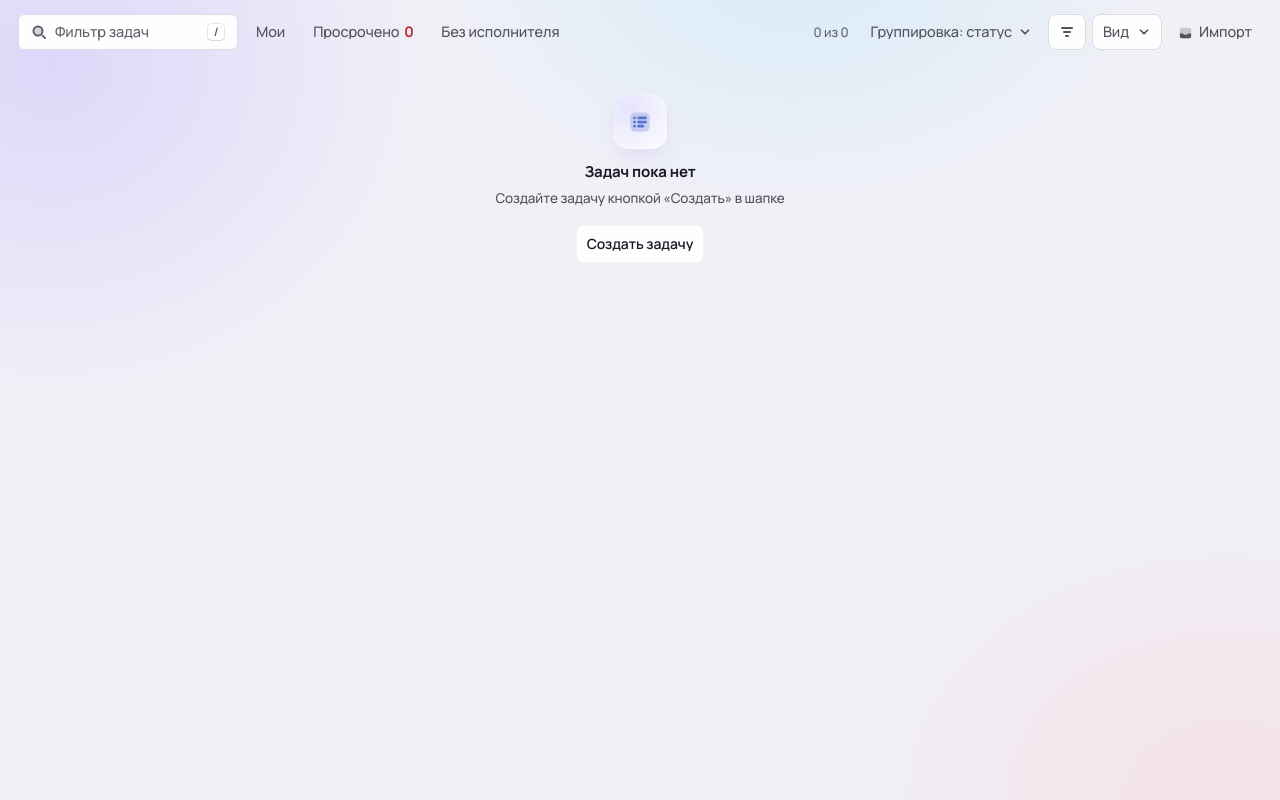
Test case: Список задач — характеризующие тесты (ТЗ 5.12 e, до переписывания в таблицу) › 6a. список сохранённых вьюх подгружается через savedViewsApi.list
The width and height of the screenshot is (1280, 800).
Click the button named "Фильтры": (1067, 32) x1=1048 y1=14 x2=1086 y2=50
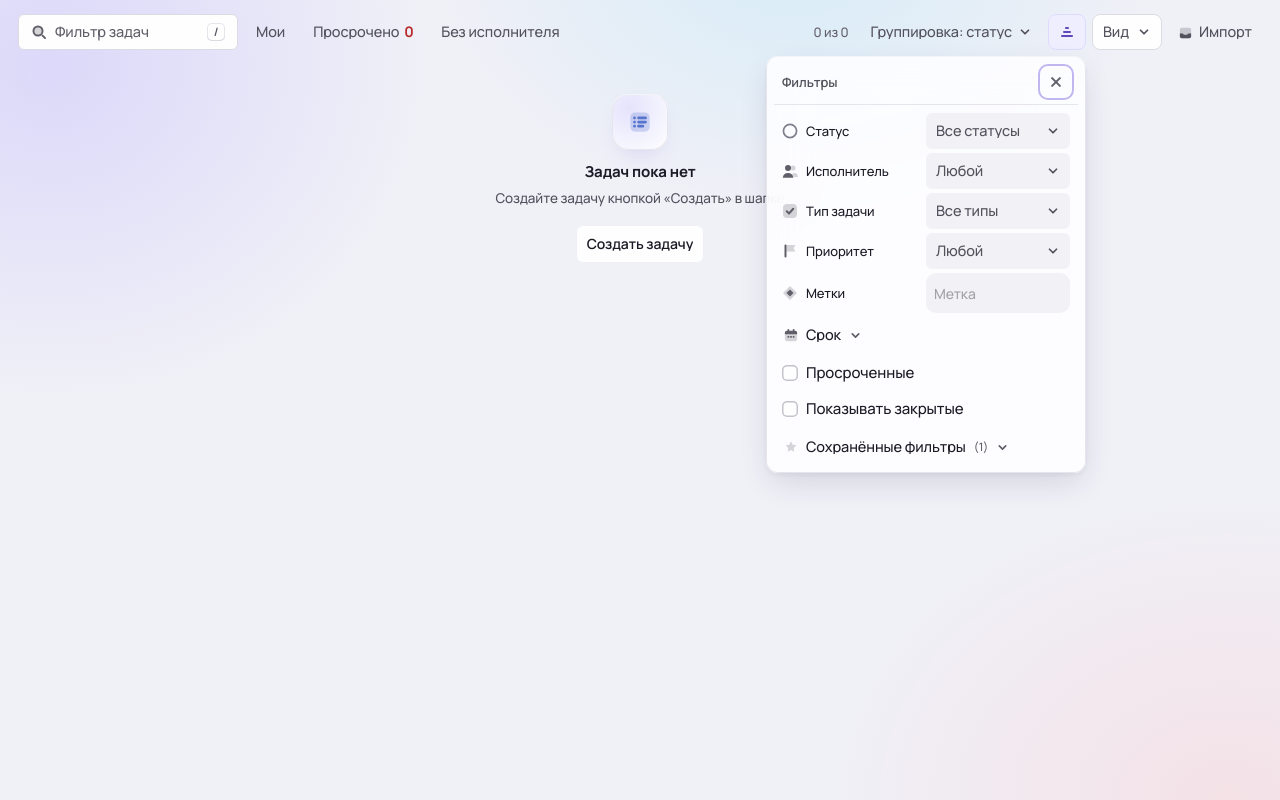
Click the button "Сохранённые фильтры (1)": (926, 447) x1=774 y1=429 x2=1078 y2=465
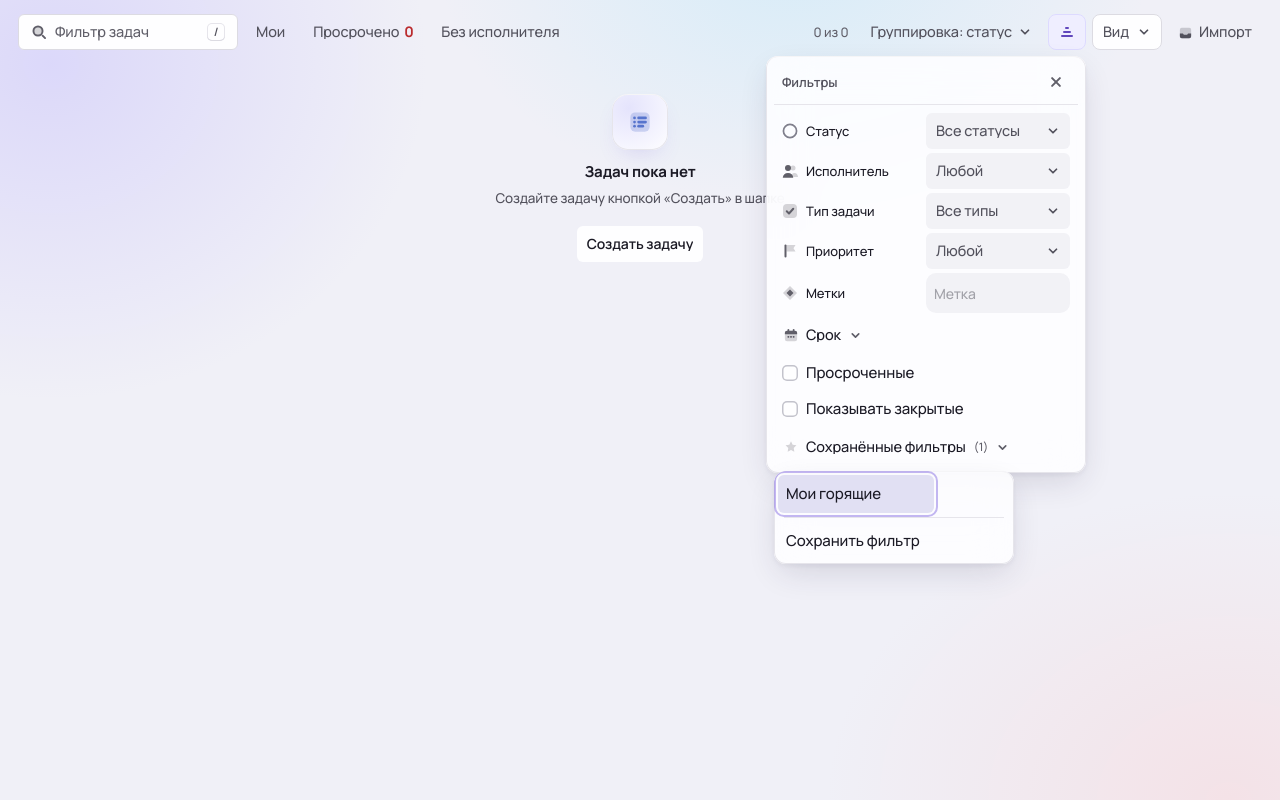
Expected: the text "Мои горящие" is shown, x1=786 y1=485 x2=881 y2=503
